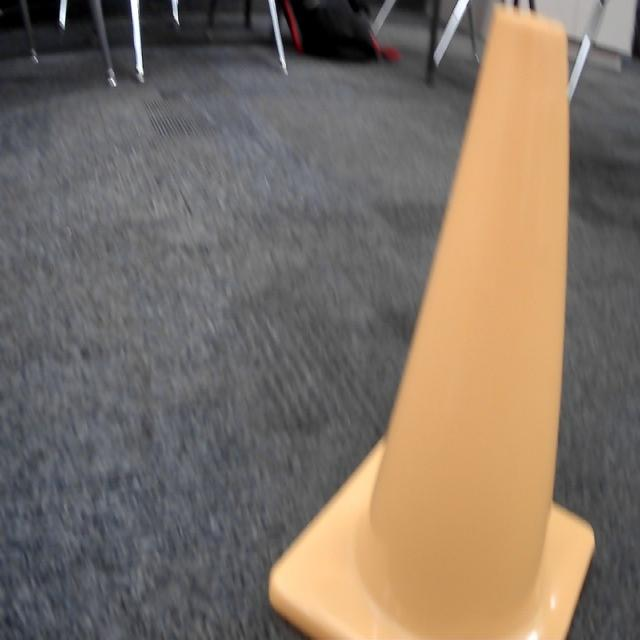cone: (265, 9, 595, 640)
